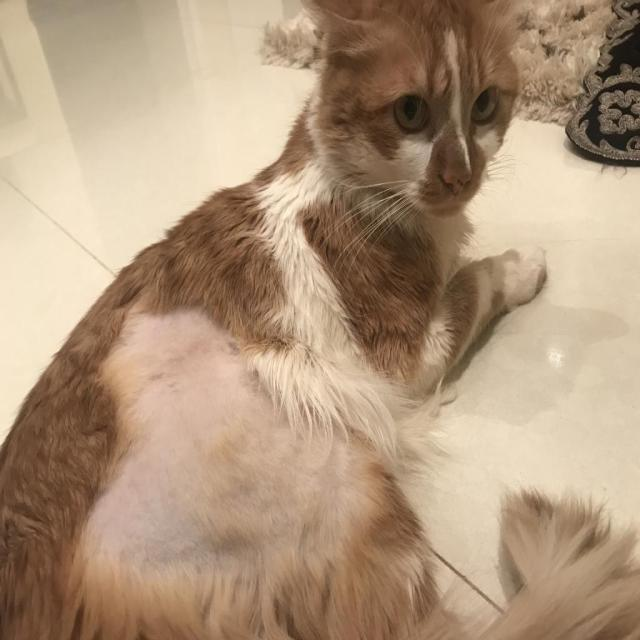cat-hairloss: (95, 296, 379, 594)
